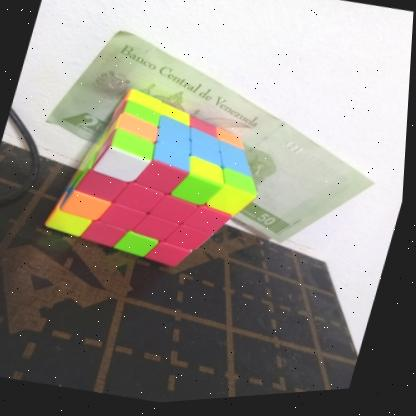fifty-back-vef: (21, 2, 412, 281)
